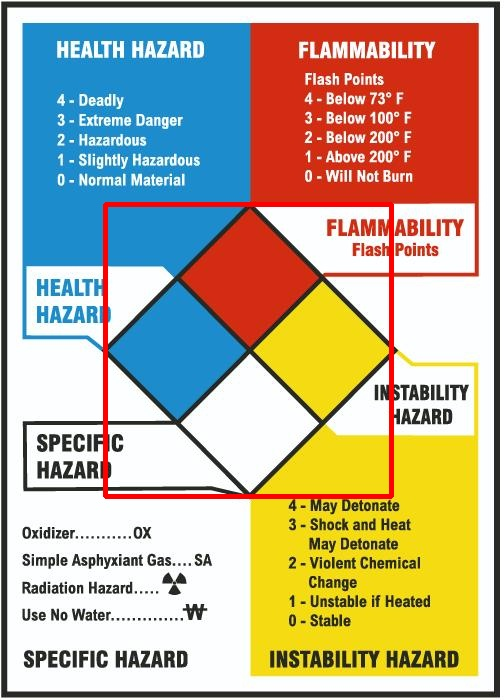nfpa: (105, 204, 391, 496)
